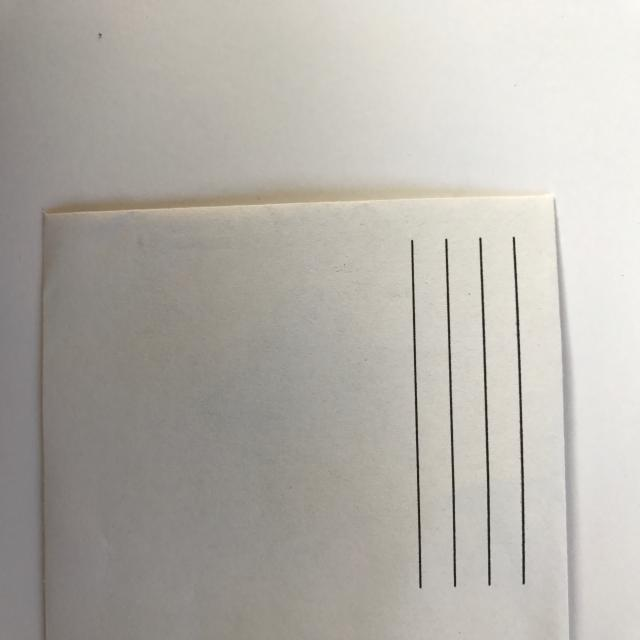paper: (41, 194, 570, 638)
